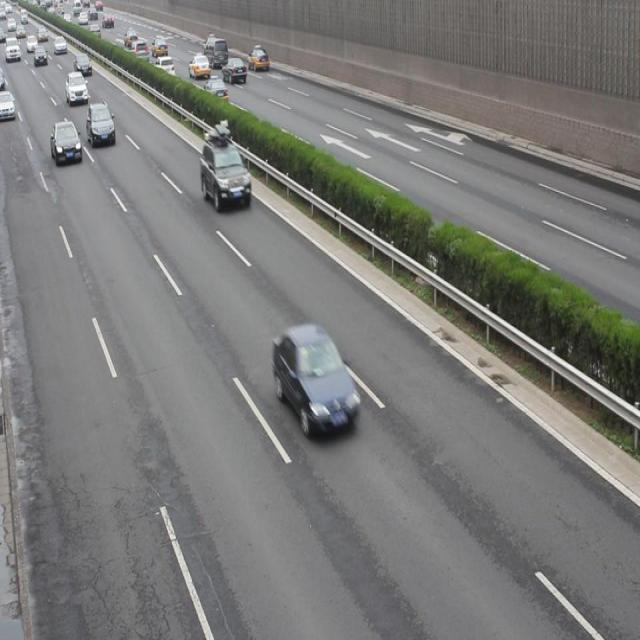car: (273, 323, 359, 438), (199, 125, 252, 212), (50, 120, 83, 168), (86, 100, 116, 148), (202, 76, 229, 108), (222, 56, 248, 85), (248, 46, 270, 74)
